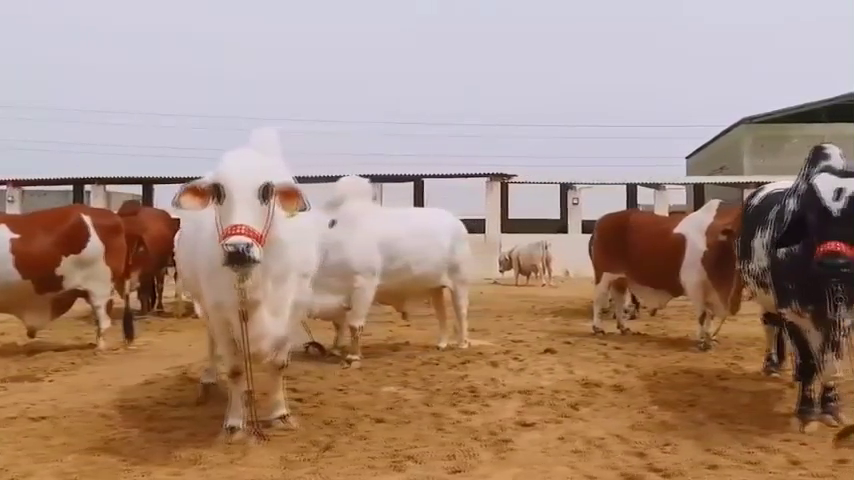bo: (172, 111, 309, 451), (303, 171, 483, 372), (742, 142, 854, 444), (583, 186, 746, 362), (1, 196, 134, 359), (116, 185, 173, 319), (492, 230, 565, 292)
